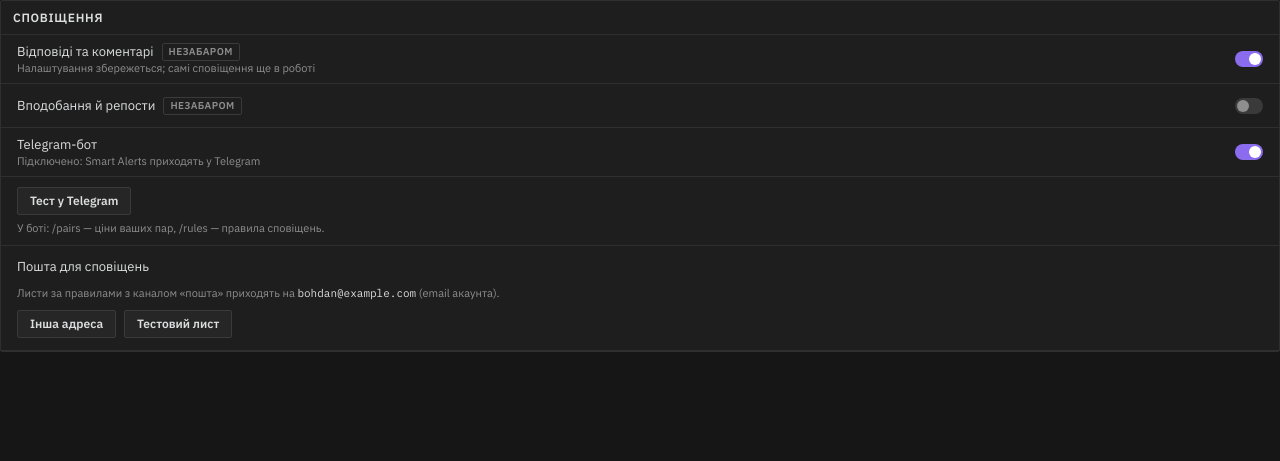
пошта для сповіщень › показує помилку невірного коду
Click the button "Інша адреса": (67, 324) [17,310,116,338]
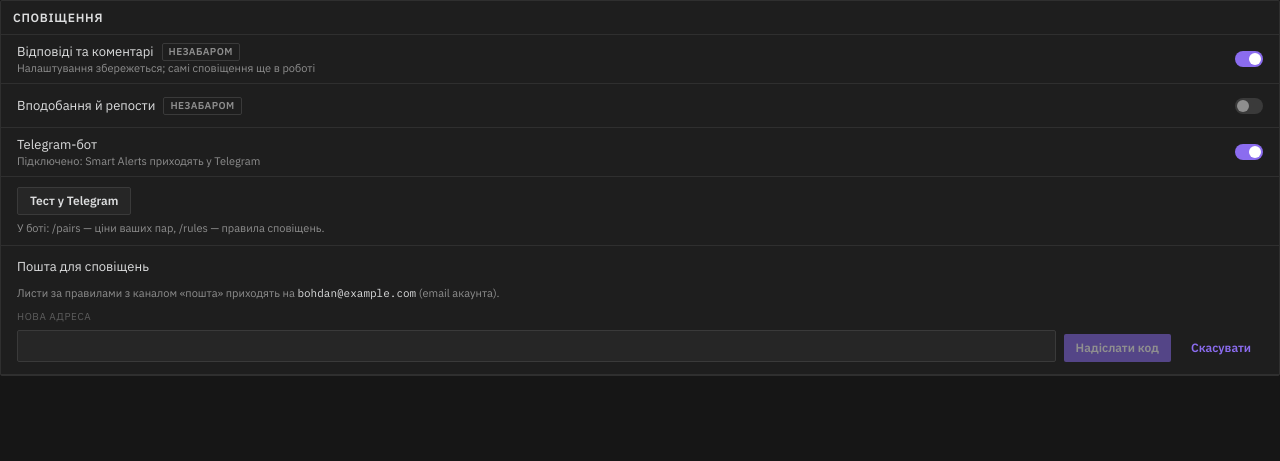
In the field labelled "Нова адреса": (536, 346) [17,330,1056,362], type "alerts@example.org"
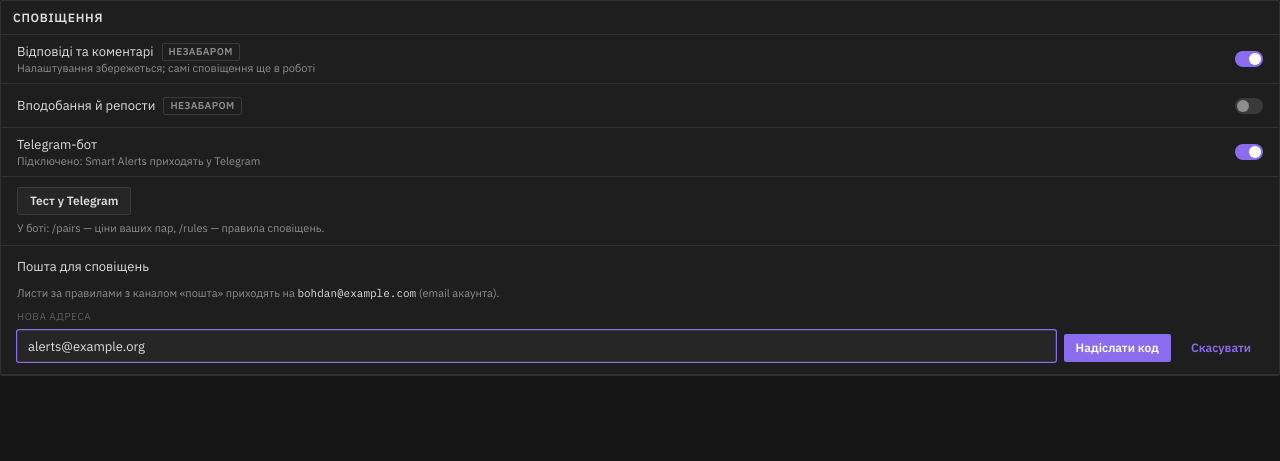
Click the button "Надіслати код": (1117, 348) [1064,334,1171,362]
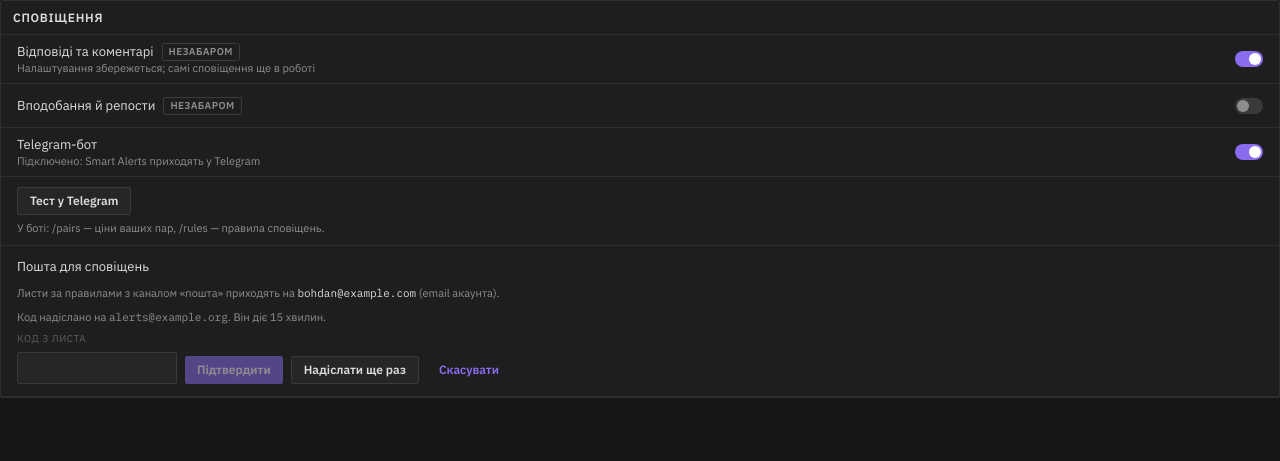
In the field labelled "Код з листа": (97, 368) [17,352,177,384], type "000000"
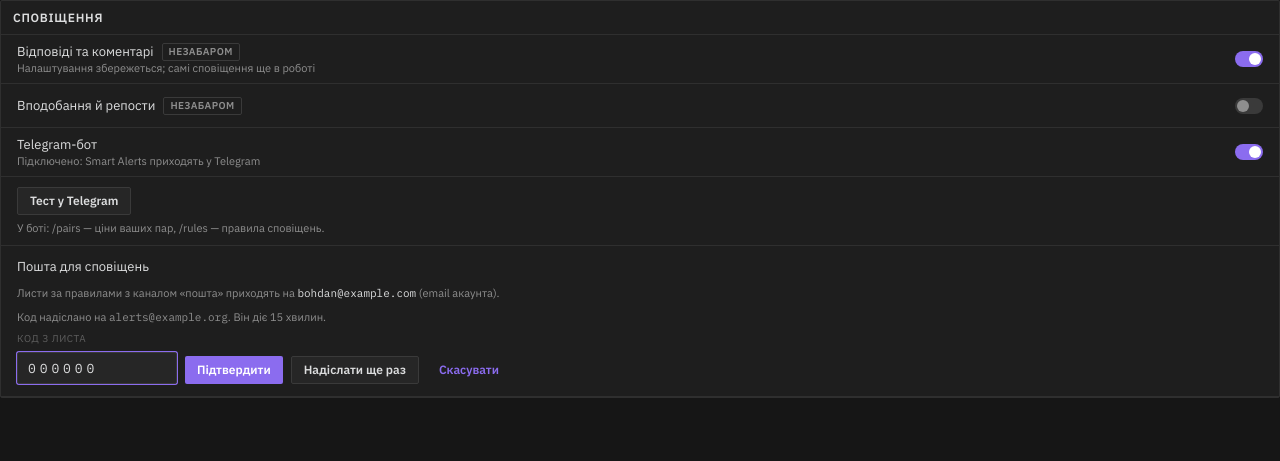
Click the button "Підтвердити": (234, 370) [185,356,283,384]
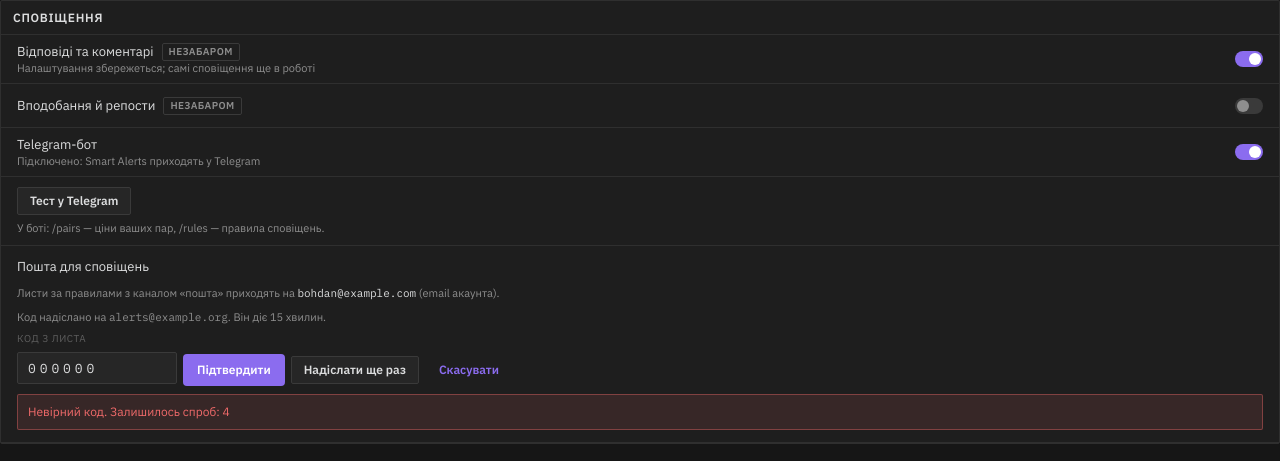
Now the text "Невірний код. Залишилось спроб: 4" is shown, box [17,394,1263,430]
